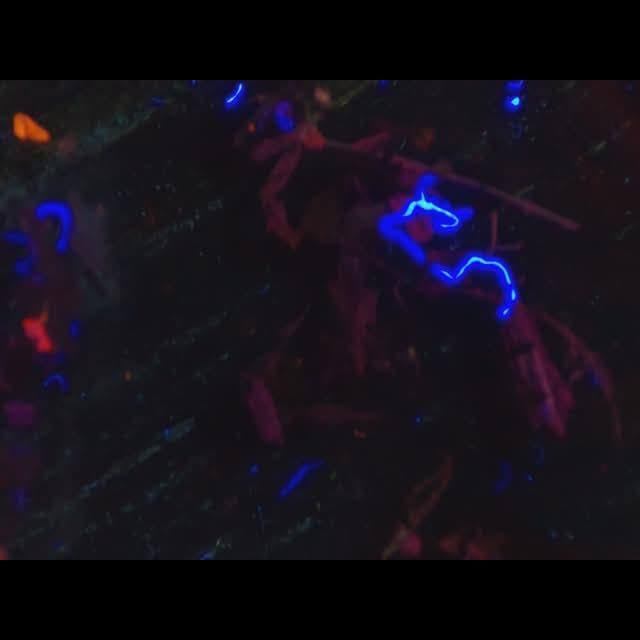Fragment: (12, 112, 50, 143)
